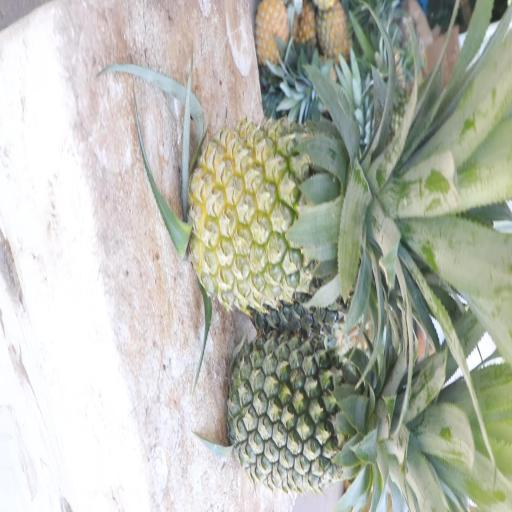Pineapple - v8 v1: (186, 118, 379, 305), (313, 0, 354, 73), (248, 0, 290, 67)
